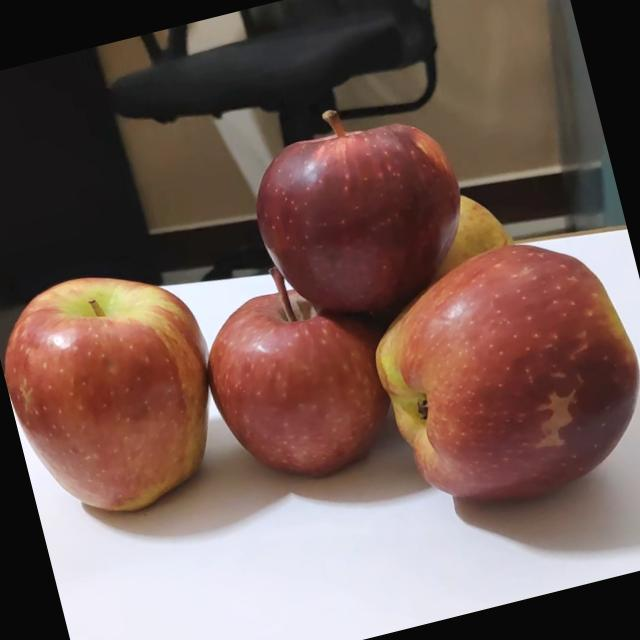apple: (344, 218, 640, 539), (0, 247, 240, 527), (228, 77, 486, 337), (186, 242, 414, 500), (366, 164, 542, 303)
